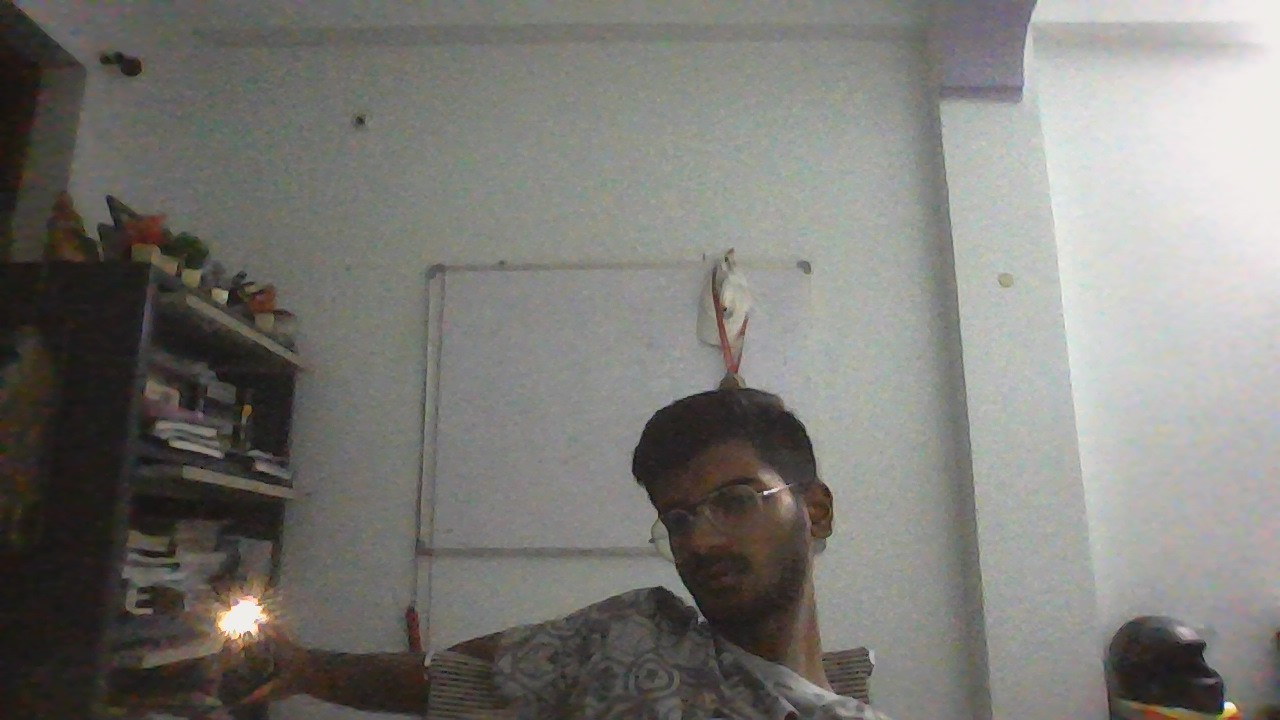Glare: (215, 598, 274, 636)
